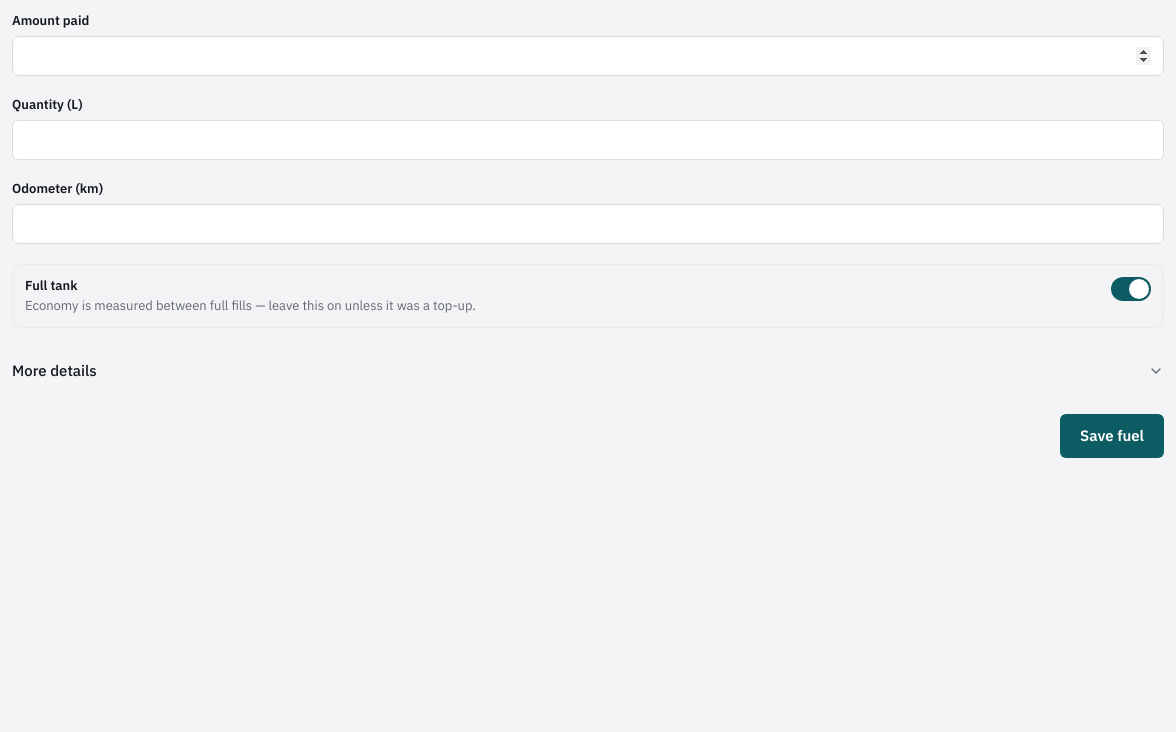
Test: FuelLogForm › computes price per unit from amount ÷ quantity, under More details
Type "840" into the number field labelled "Amount paid" at (588, 56), box top-left (12, 36), bottom-right (1164, 76)
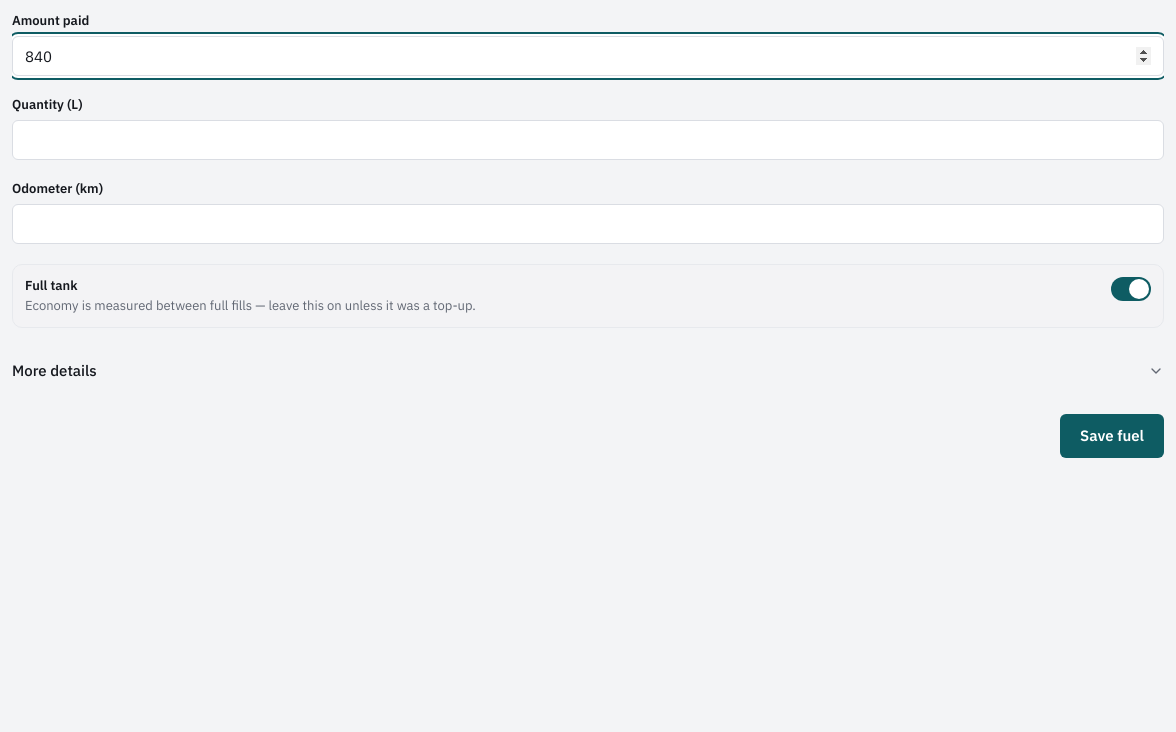
Type "8" into the number field labelled "Quantity (L)" at (588, 140), box top-left (12, 120), bottom-right (1164, 160)
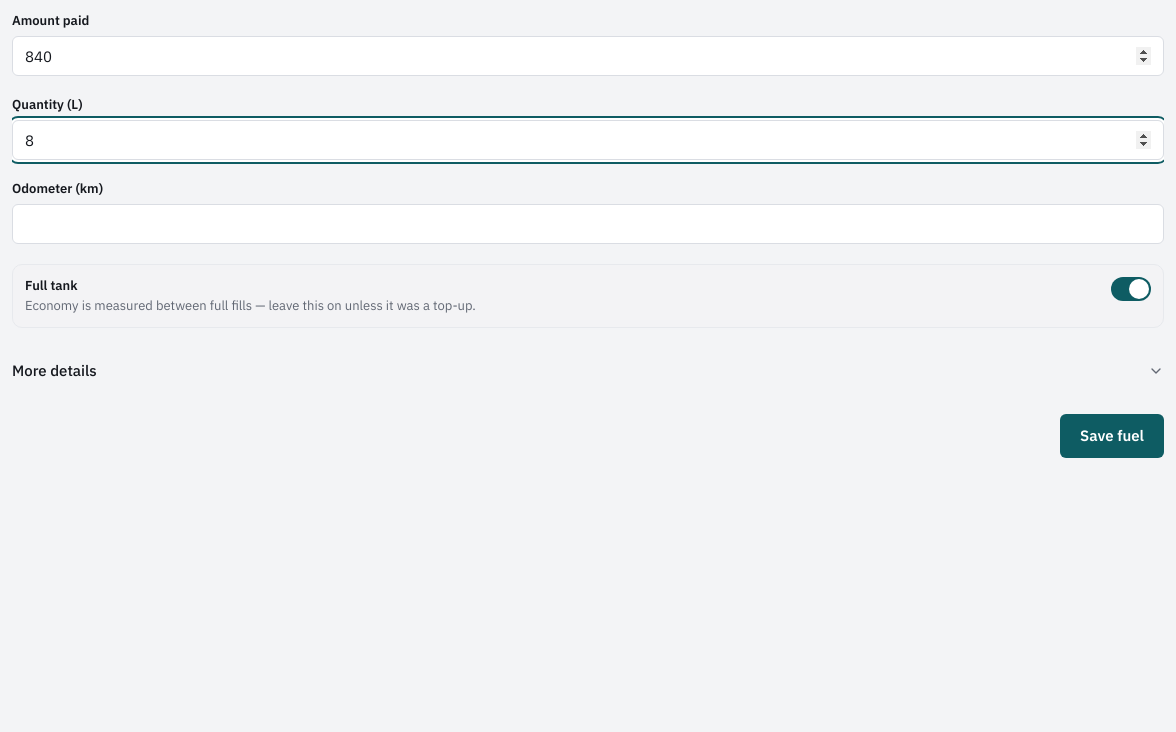
Click the button "More details" at (54, 370), box top-left (12, 348), bottom-right (1164, 394)
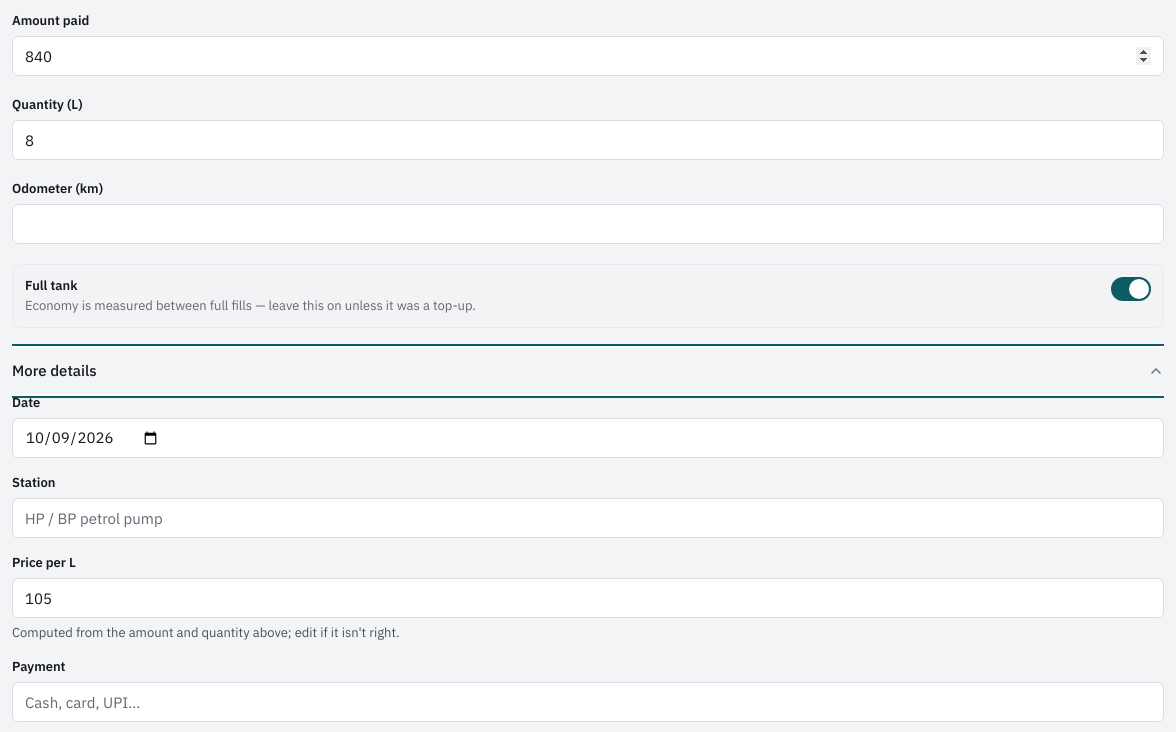
Result: the number field labelled "Price per L" holds "105" at top-left (12, 578), bottom-right (1164, 618)
